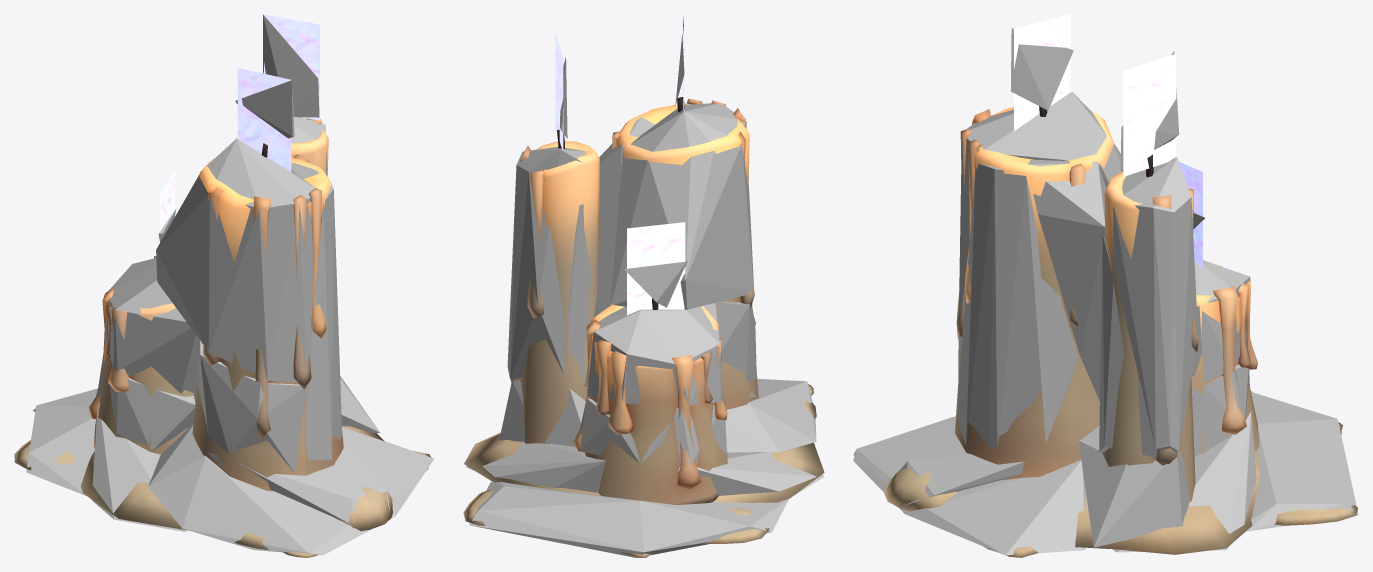
The model's file is SM_Candle_e.fbx.
The picture shows the model from 3 angles, left to right: view 1: azimuth 30°, elevation 25°; view 2: azimuth 150°, elevation 25°; view 3: azimuth 270°, elevation 25°; orthographic projection. The views are drawn at different scales.
Visible parts, largest first — view 1: SM_Candle_e_ConvexHulls, SM_Candle_e; view 2: SM_Candle_e_ConvexHulls, SM_Candle_e; view 3: SM_Candle_e_ConvexHulls, SM_Candle_e.
Boxes of the visible parts, left/top/right/bottom form: SM_Candle_e_ConvexHulls: left=26, top=14, right=434, bottom=555; SM_Candle_e: left=14, top=14, right=431, bottom=557; SM_Candle_e_ConvexHulls: left=466, top=17, right=823, bottom=557; SM_Candle_e: left=463, top=19, right=824, bottom=557; SM_Candle_e_ConvexHulls: left=853, top=28, right=1358, bottom=555; SM_Candle_e: left=853, top=14, right=1357, bottom=557.
Bounding box in the file's own units: 28.44 × 35.35 × 35.35.
2 materials, 1 textured.
